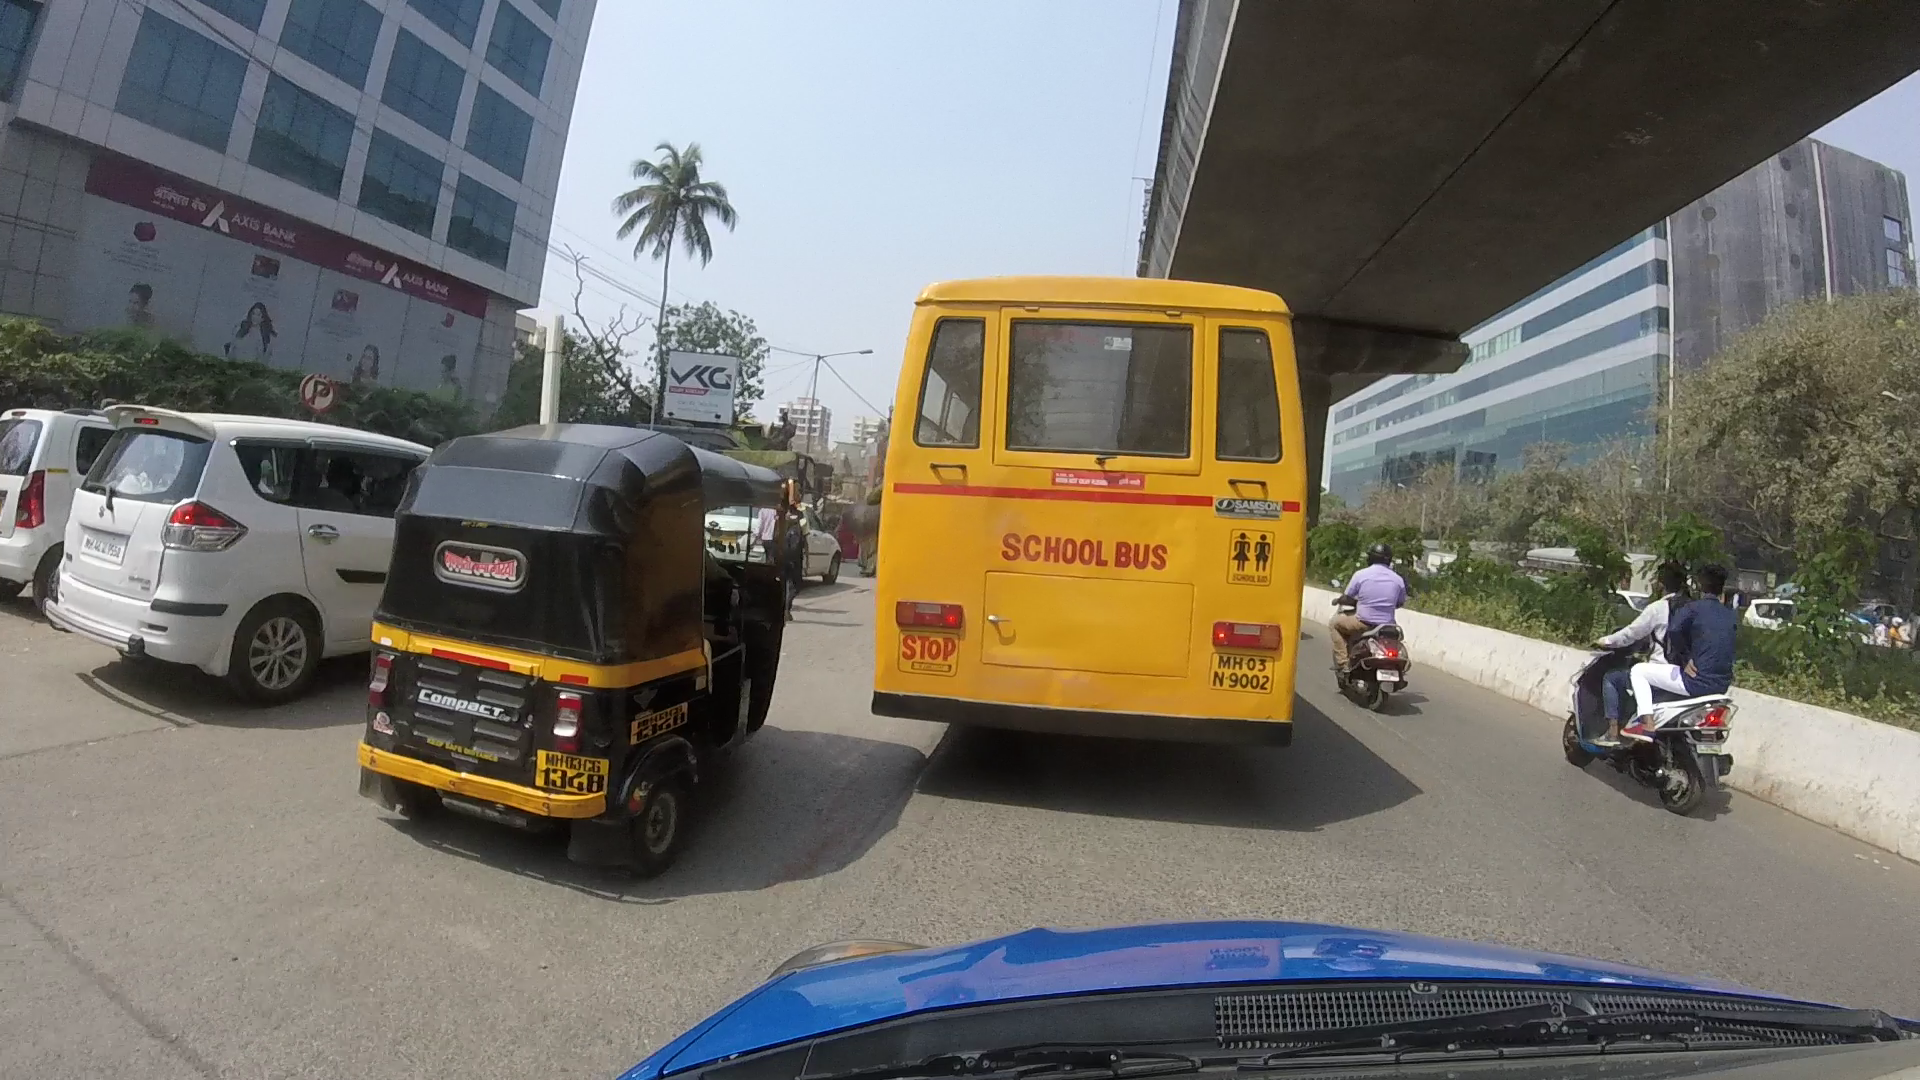bike/scooter: (1563, 556, 1746, 816), (1342, 545, 1419, 724)
bus: (881, 276, 1305, 744)
car: (51, 407, 440, 692), (3, 398, 119, 589)
rickshaw: (367, 419, 775, 877)
